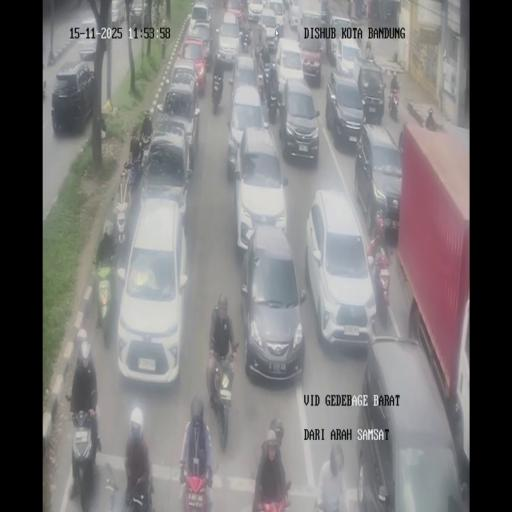car: (357, 331, 467, 507), (116, 196, 188, 384), (305, 190, 376, 352), (240, 226, 305, 382), (356, 122, 402, 232), (141, 121, 193, 218), (226, 82, 266, 182), (51, 59, 96, 134), (326, 72, 364, 150), (274, 38, 306, 105), (298, 11, 326, 82), (356, 60, 386, 123), (177, 36, 209, 95), (216, 12, 242, 69), (334, 36, 362, 81), (259, 7, 281, 50), (188, 0, 212, 38), (328, 13, 352, 40), (129, 0, 147, 27), (247, 0, 265, 23), (80, 17, 97, 40), (288, 0, 301, 29), (111, 0, 126, 25)
truck: (69, 406, 100, 509), (207, 352, 235, 450), (92, 250, 117, 344), (180, 446, 212, 508), (368, 245, 390, 324), (124, 458, 154, 510), (254, 477, 293, 509), (102, 460, 120, 512), (125, 152, 145, 195), (114, 202, 129, 258), (266, 80, 279, 123), (370, 213, 385, 249), (74, 326, 89, 362), (256, 59, 268, 100), (269, 418, 284, 449), (388, 85, 400, 122), (211, 78, 223, 114), (139, 130, 152, 159), (234, 4, 246, 33), (426, 108, 438, 131), (240, 31, 250, 54), (320, 2, 329, 26), (365, 38, 373, 60), (254, 40, 262, 62), (207, 0, 213, 19), (385, 8, 392, 24)
